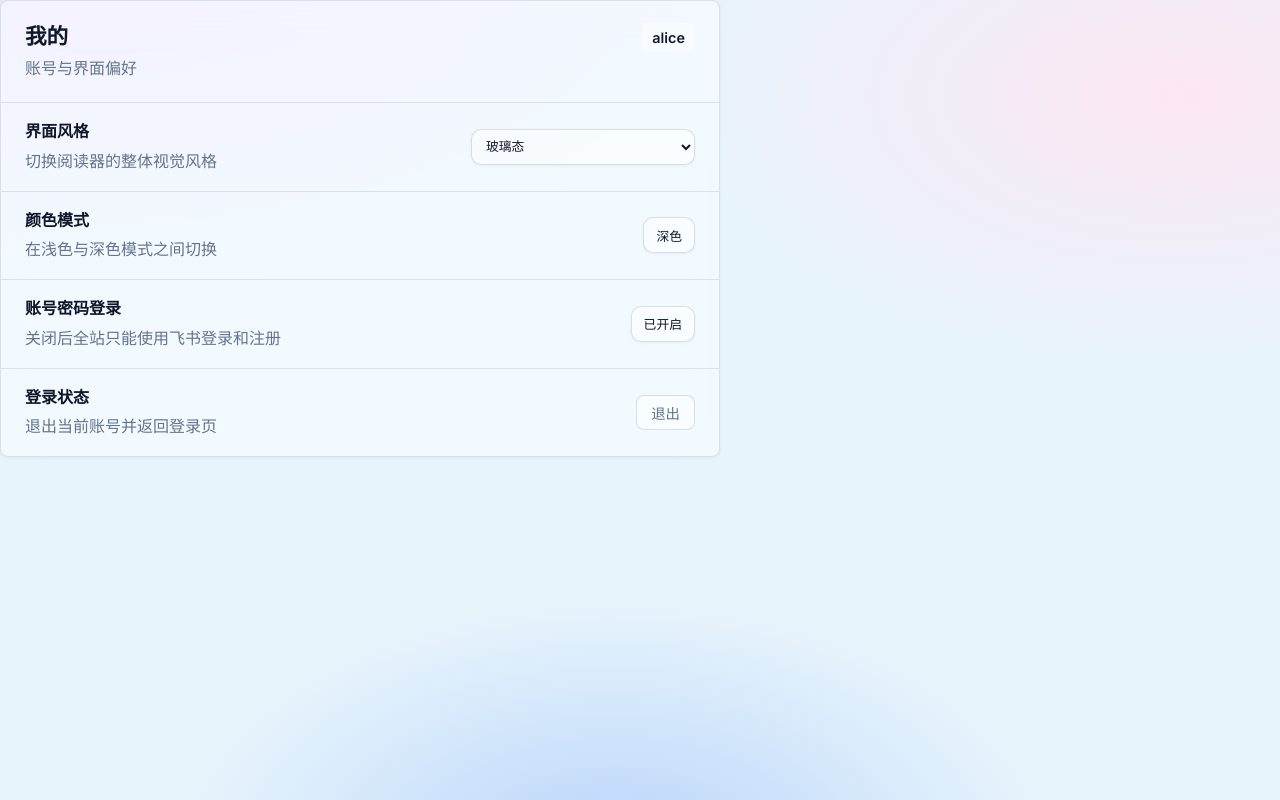
it: 超级管理员可确认关闭账号密码登录
The image size is (1280, 800).
Click the button "已开启": (663, 324) [631,306,695,342]
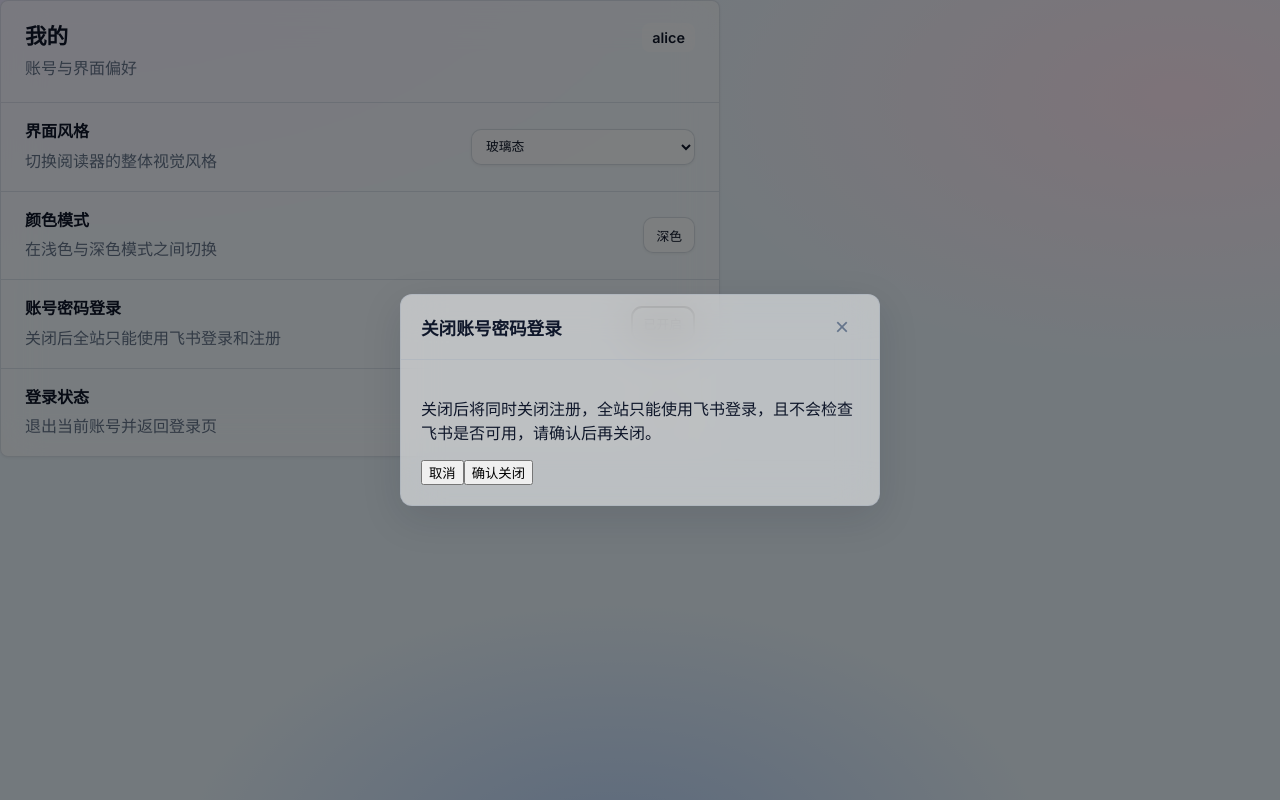
Expected: the dialog is shown
Expected: the text "关闭后将同时关闭注册，全站只能使用飞书登录，且不会检查飞书是否可用，请确认后再关闭。" is shown, [421,396,859,444]
Click the button "确认关闭": (498, 472) [464,460,533,485]
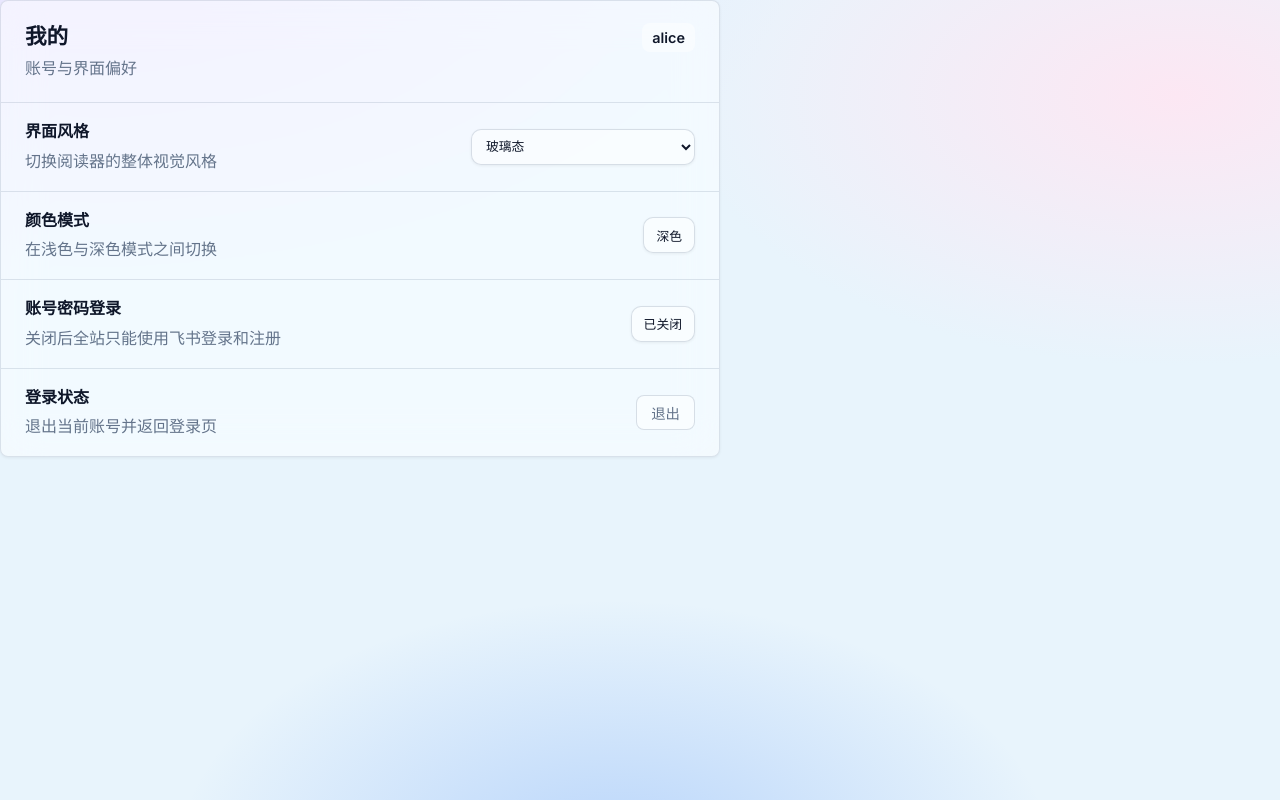
Expected: the button "已关闭" is shown, [631,306,695,342]
